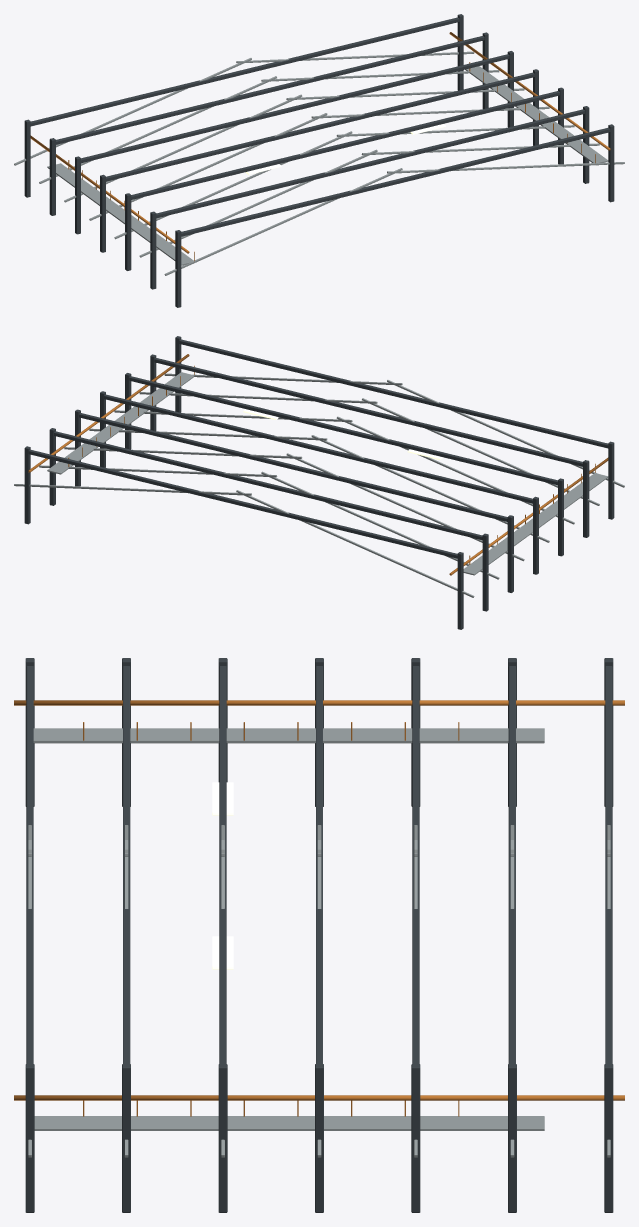
File: breakwater-hangar-detail-authored-v1.glb
The picture shows the model from 3 angles, top to bottom: view 1: azimuth 30°, elevation 25°; view 2: azimuth 150°, elevation 25°; view 3: azimuth 270°, elevation 25°; orthographic projection. The views are drawn at different scales.
Parts seen in each view (by area): view 1: Breakwater_Hangar_Authored_Detail — Graphite structural stee, Breakwater_Hangar_Authored_Detail — Weathered galvanized ste, Breakwater_Hangar_Authored_Detail — Safety orange batch; view 2: Breakwater_Hangar_Authored_Detail — Graphite structural stee, Breakwater_Hangar_Authored_Detail — Weathered galvanized ste, Breakwater_Hangar_Authored_Detail — Safety orange batch; view 3: Breakwater_Hangar_Authored_Detail — Graphite structural stee, Breakwater_Hangar_Authored_Detail — Weathered galvanized ste, Breakwater_Hangar_Authored_Detail — Safety orange batch, Breakwater_Hangar_Authored_Detail — Hangar work light batch.
Part boxes in pixels (x1,y1,x2,y2): Breakwater_Hangar_Authored_Detail — Graphite structural stee: [24, 14, 614, 307]; Breakwater_Hangar_Authored_Detail — Weathered galvanized ste: [14, 51, 624, 275]; Breakwater_Hangar_Authored_Detail — Safety orange batch: [30, 32, 610, 261]; Breakwater_Hangar_Authored_Detail — Graphite structural stee: [24, 336, 614, 629]; Breakwater_Hangar_Authored_Detail — Weathered galvanized ste: [14, 372, 624, 597]; Breakwater_Hangar_Authored_Detail — Safety orange batch: [28, 354, 608, 575]; Breakwater_Hangar_Authored_Detail — Graphite structural stee: [25, 658, 613, 1212]; Breakwater_Hangar_Authored_Detail — Weathered galvanized ste: [28, 728, 610, 1157]; Breakwater_Hangar_Authored_Detail — Safety orange batch: [14, 700, 624, 1116]; Breakwater_Hangar_Authored_Detail — Hangar work light batch: [212, 782, 233, 969].
Size of the model in its own units: 95.13 by 16.63 by 57.
